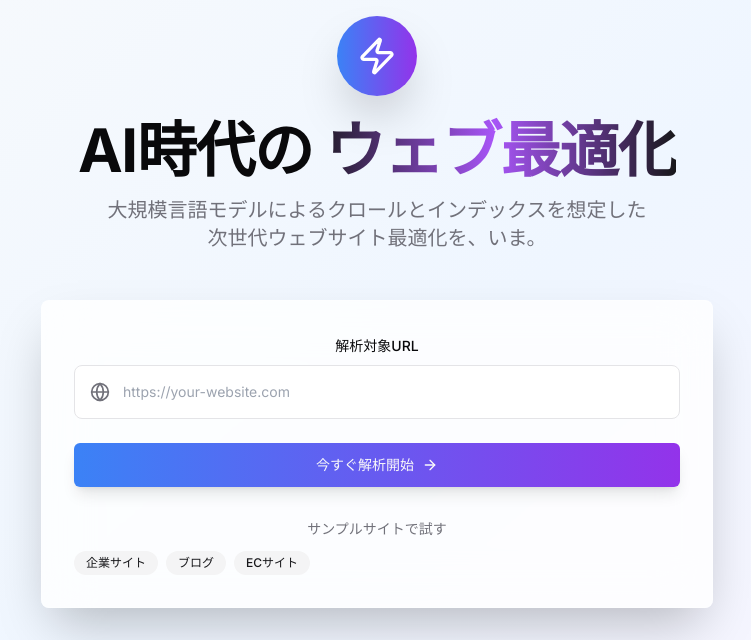
Test: UrlInput Component › should set example URL when clicked
Click the button "企業サイト" at (116, 563), box 74,551 -> 158,575
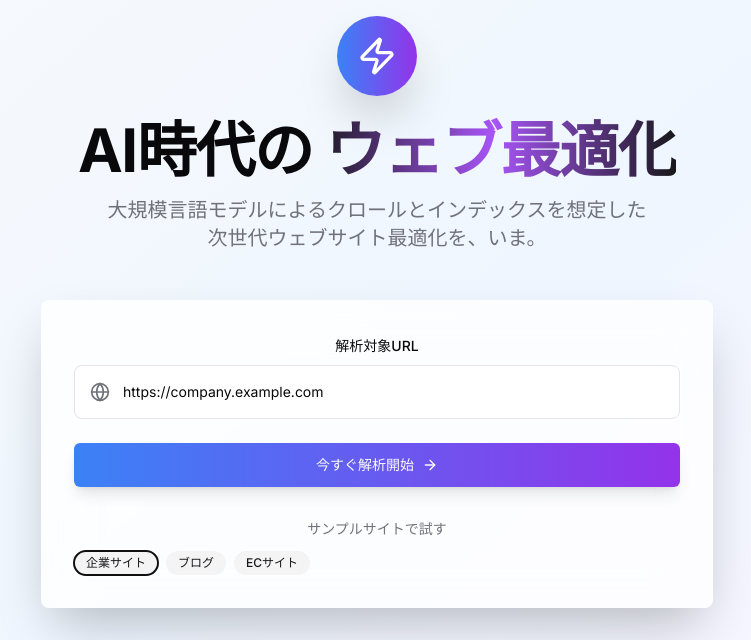
Now the field holds "https://company.example.com", box 74,365 -> 680,419
